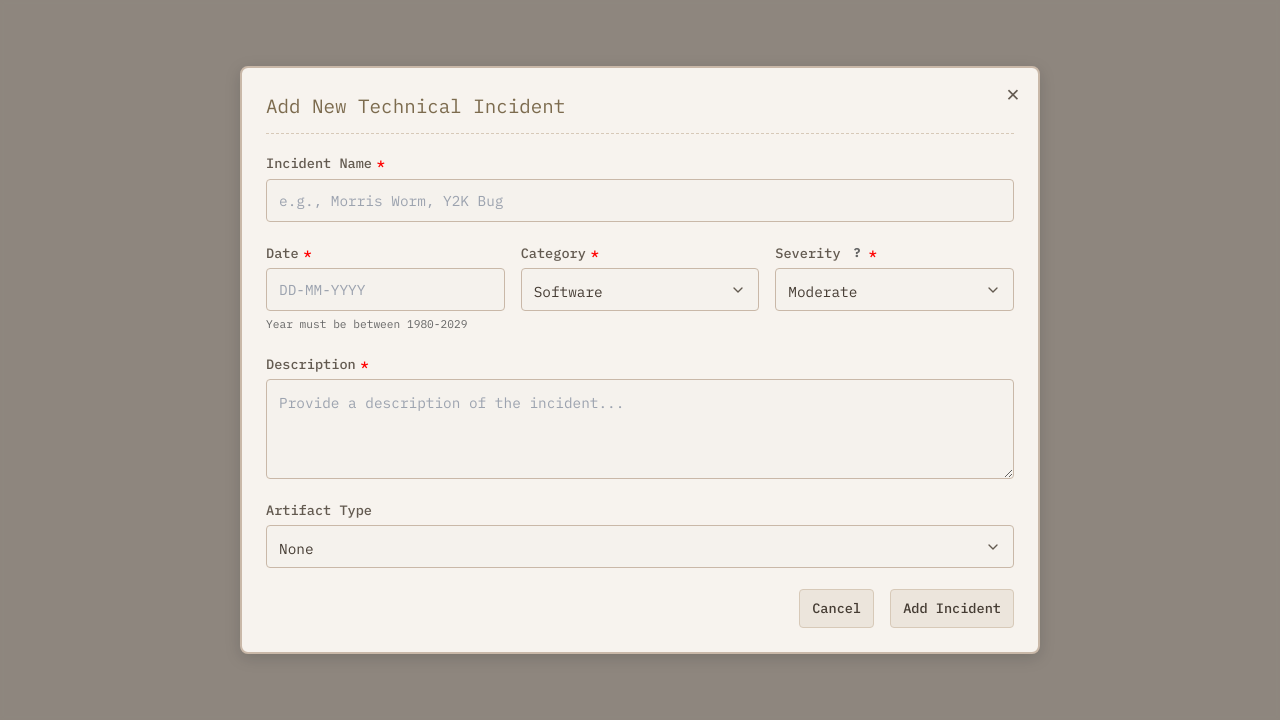
Test: IncidentModals › Add Incident Modal › validates form inputs before submission
Step 1. Click the button "Add Incident" → (952, 608), box top-left (890, 589), bottom-right (1014, 628)
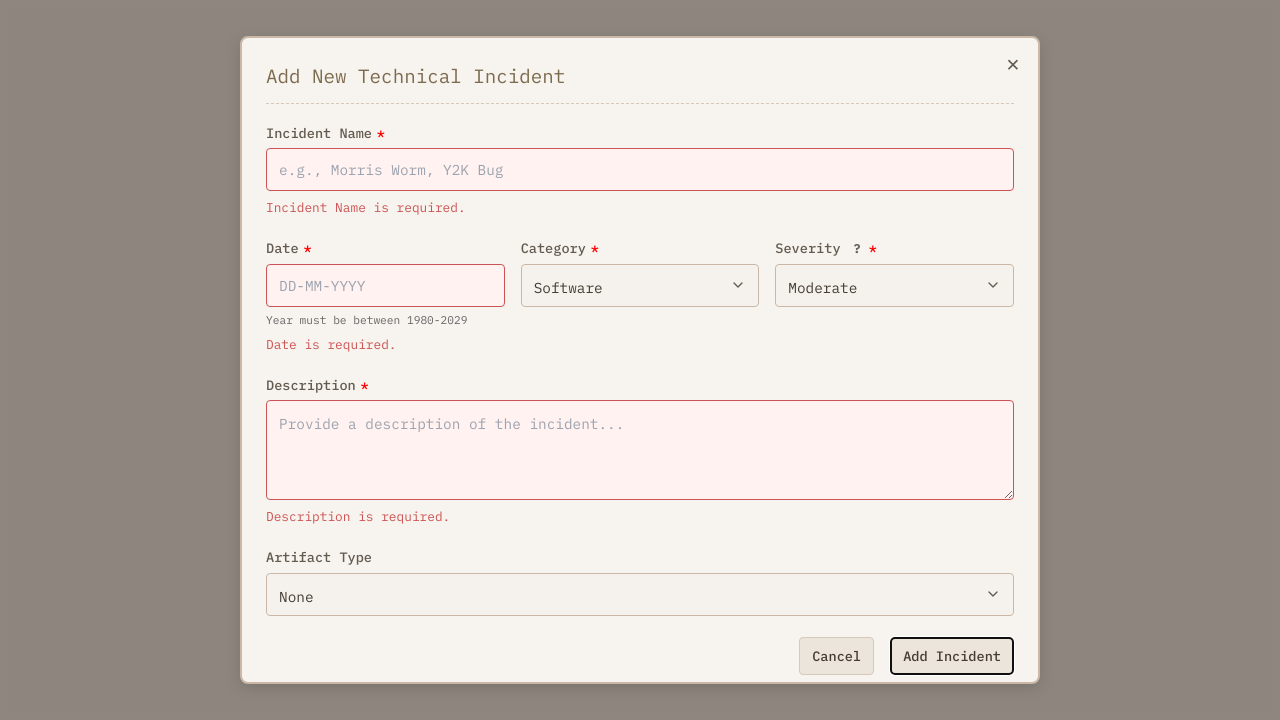
Check: the text "Incident Name is required." is shown, box top-left (266, 199), bottom-right (466, 216)
Check: the text "Date is required." is shown, box top-left (266, 336), bottom-right (396, 353)
Check: the text "Description is required." is shown, box top-left (266, 508), bottom-right (450, 525)
